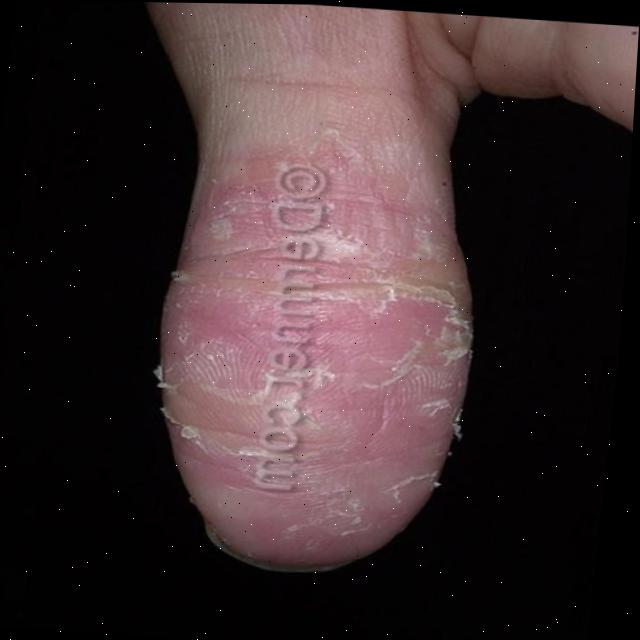Eczema: (174, 176, 476, 488)
